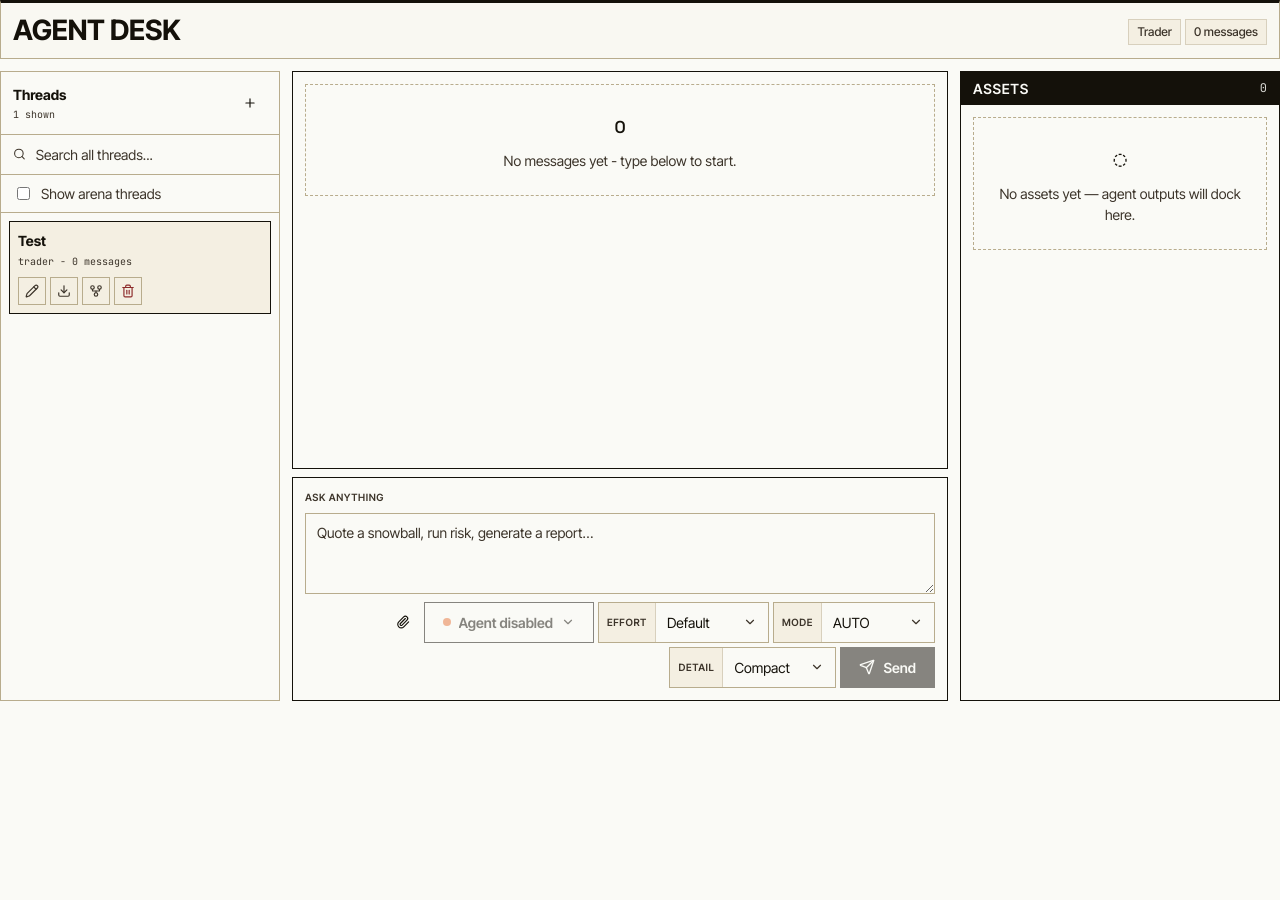
Test: AgentDeskLive SSE parsing › resets the streaming bubble on envelope_transitioned so the first-pass refusal does not leak
The image size is (1280, 900).
Type "hi" into the text box labelled "Ask anything" at (620, 553), box left=305, top=513, right=935, bottom=594
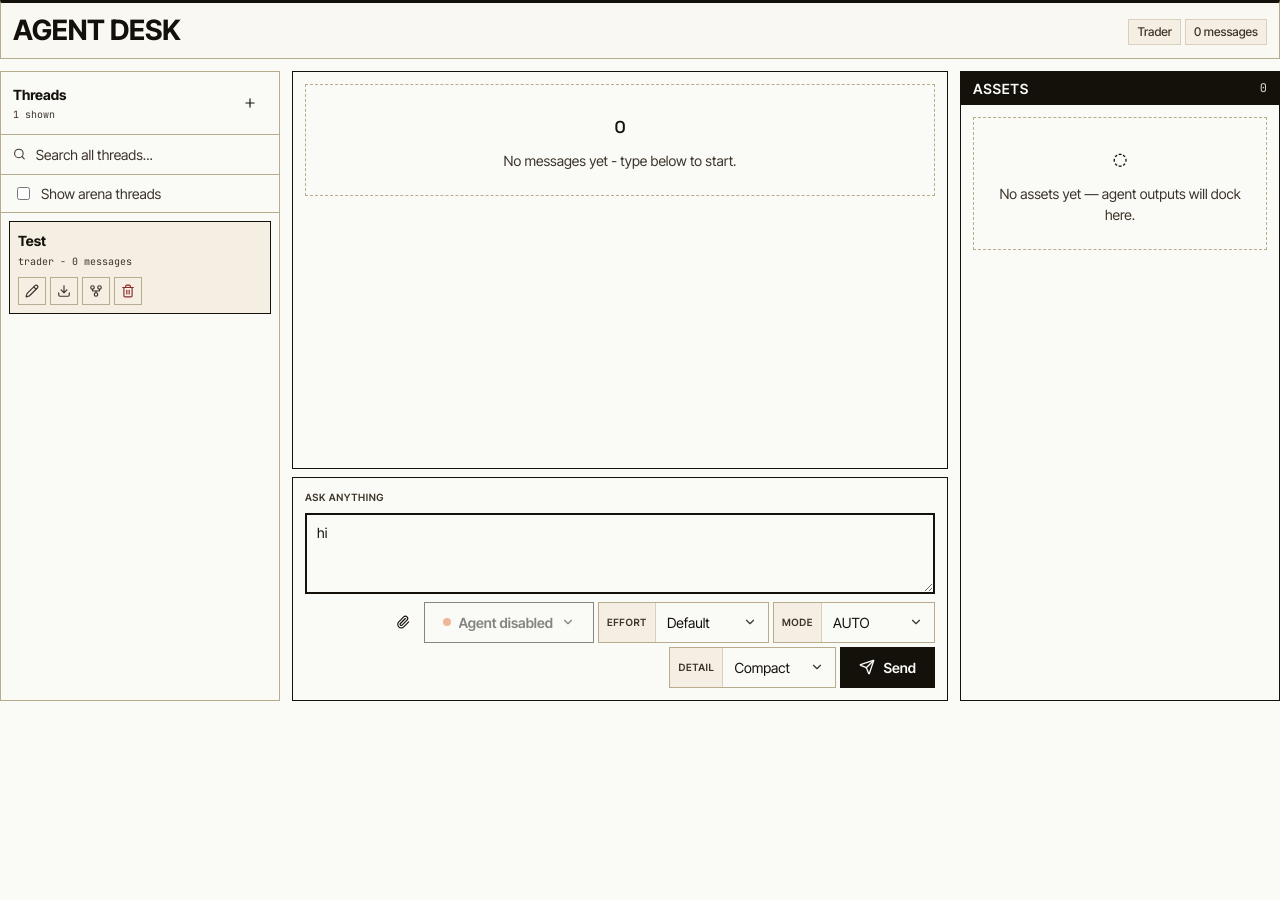
Click the button "Send" at (888, 667), box left=840, top=647, right=935, bottom=688
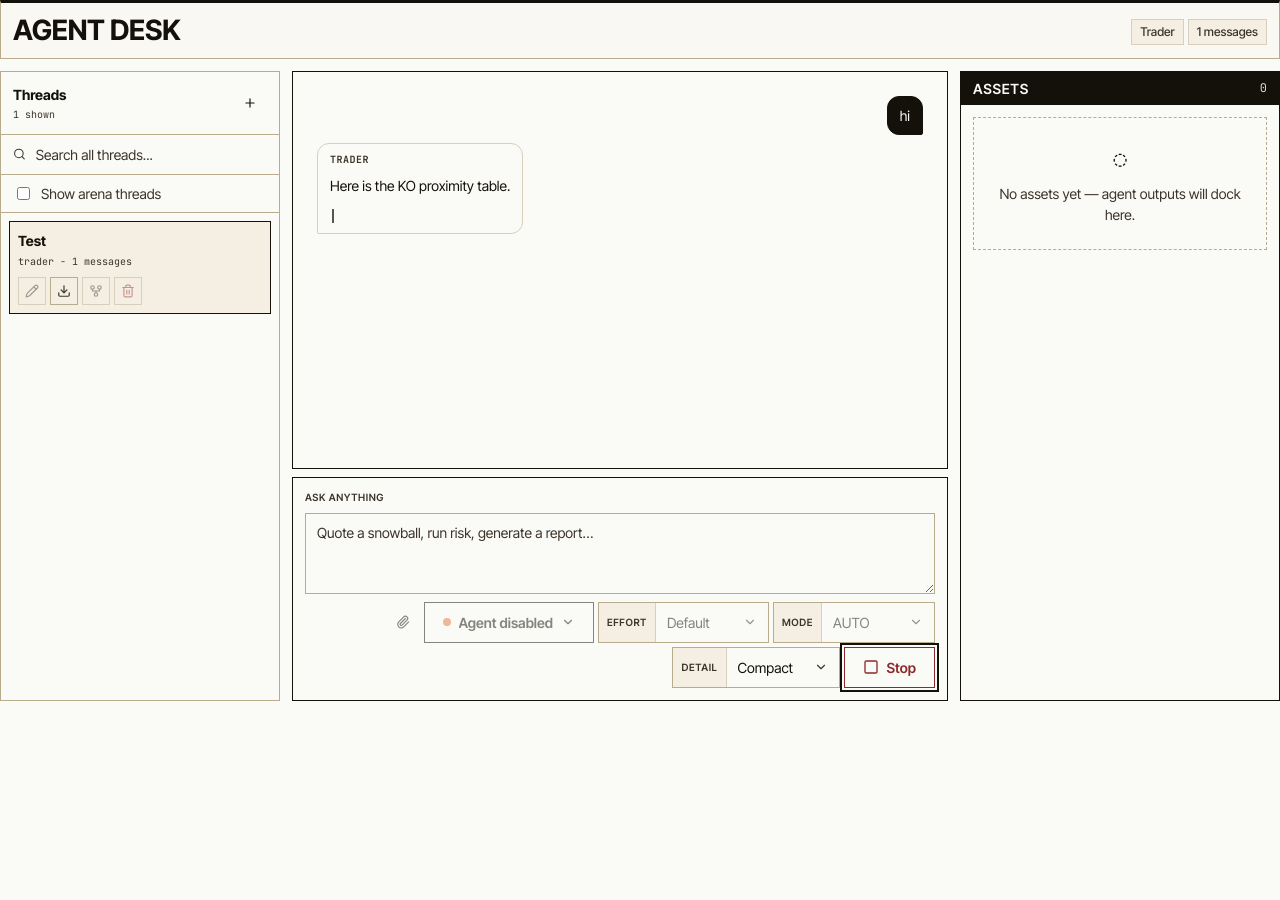
Expected: the text "Here is the KO proximity table." is shown, left=330, top=175, right=510, bottom=196
